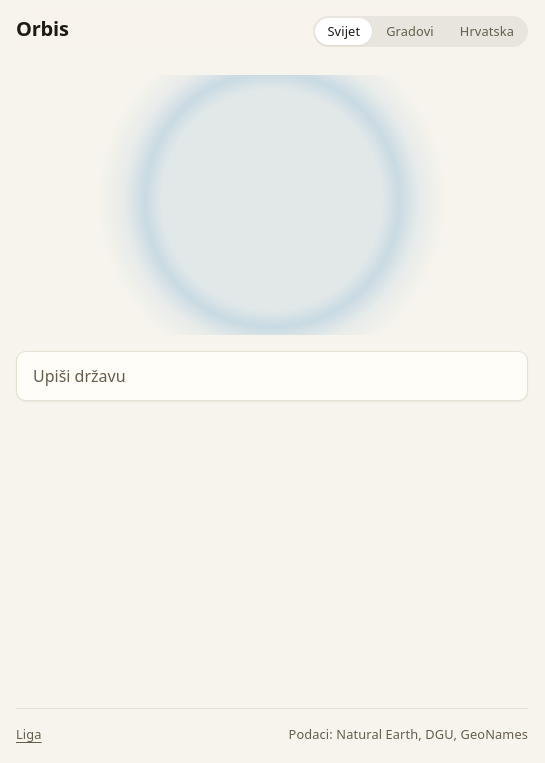
Test: App › pogodak se razlikuje od promašaja, iako strelica više ne postoji
The width and height of the screenshot is (545, 763).
Type "Alfa" into the dropdown labelled "Upiši državu" at (272, 376), box [16,351,528,401]
Then press Enter
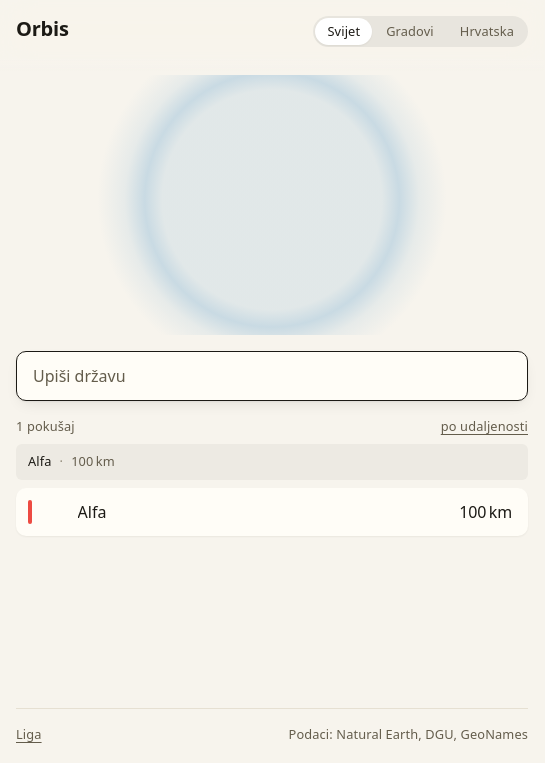
Expected: the message does not show "pogodak"
Type "Beta" into the dropdown labelled "Upiši državu" at (272, 376), box [16,351,528,401]
Then press Enter
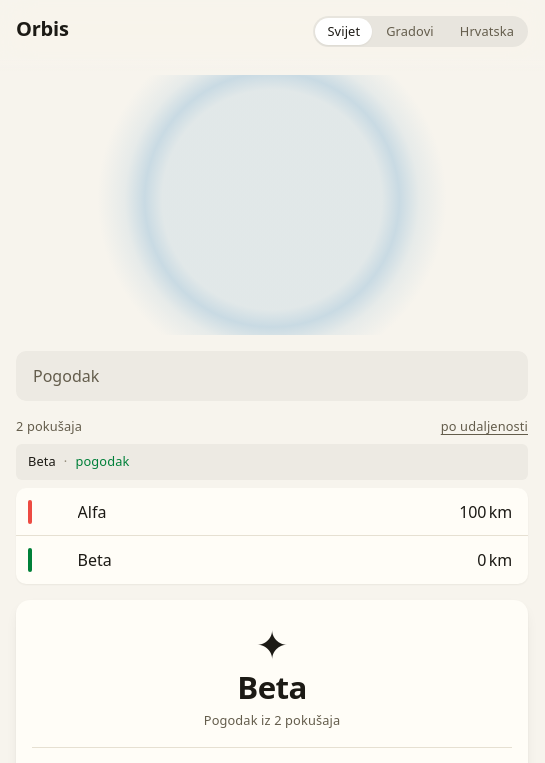
Now the message shows "pogodak", box [75,452,129,470]
